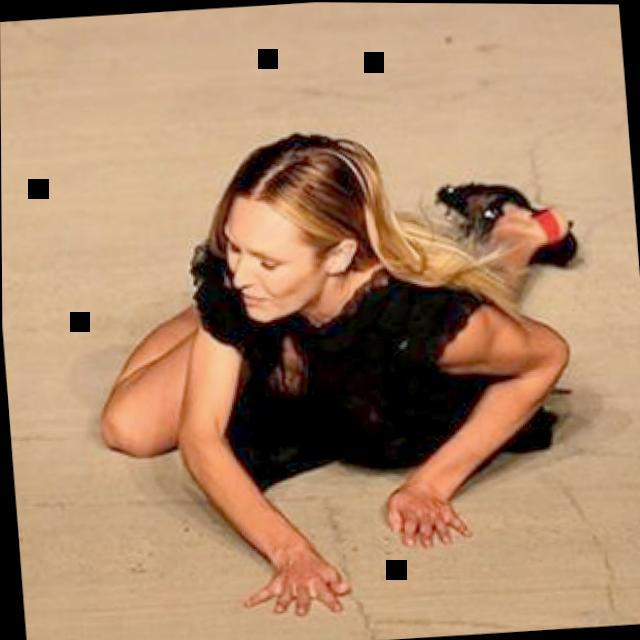Fall-Detected: (73, 40, 612, 640)
